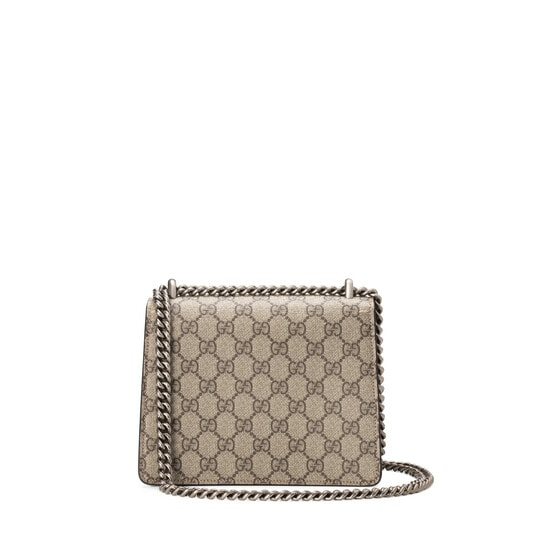Gucci: (123, 242, 412, 502), (183, 314, 372, 449)
